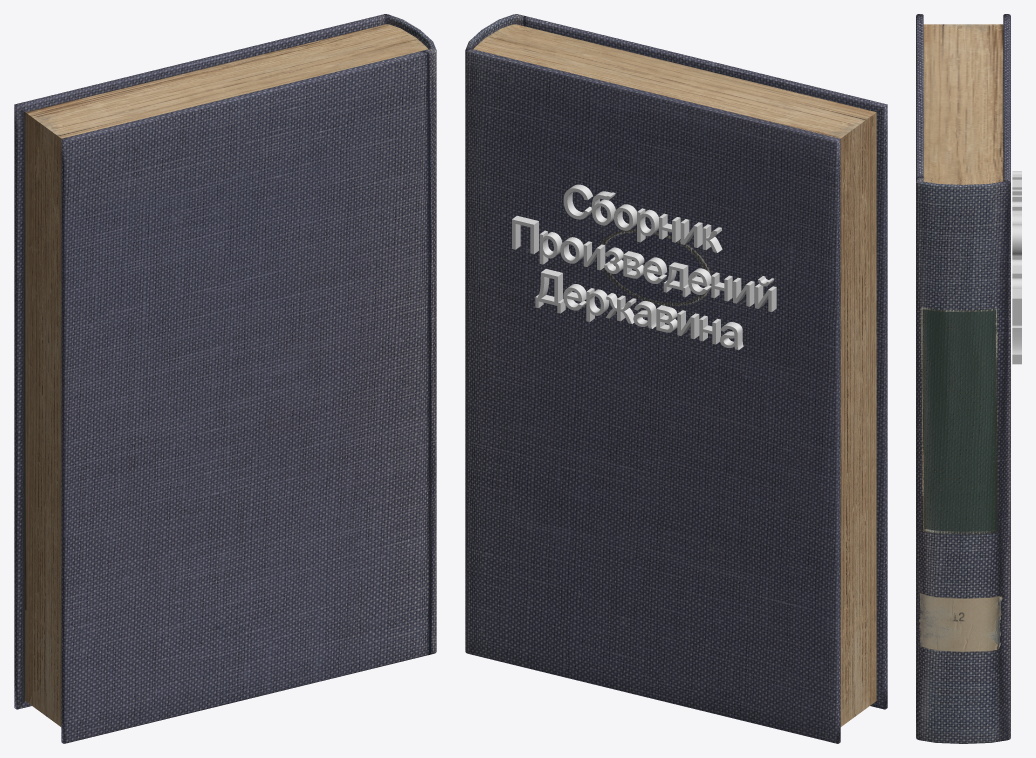
The model's file is kniga.fbx.
3 views of the same model, side by side, from view 1: azimuth 30°, elevation 25°; view 2: azimuth 150°, elevation 25°; view 3: azimuth 270°, elevation 25° (orthographic). The views are drawn at different scales.
Parts seen in each view (by area): view 1: Box866; view 2: Box866, Text001; view 3: Box866, Text001.
Part boxes in pixels (bbox=[...]): Box866: bbox=[14, 14, 436, 743]; Box866: bbox=[465, 14, 887, 743]; Text001: bbox=[512, 184, 776, 350]; Box866: bbox=[916, 14, 1010, 743]; Text001: bbox=[1012, 171, 1021, 364].
Size of the model in its own units: 174 by 262 by 45.04.
Materials: 1 (1 with a texture image).
